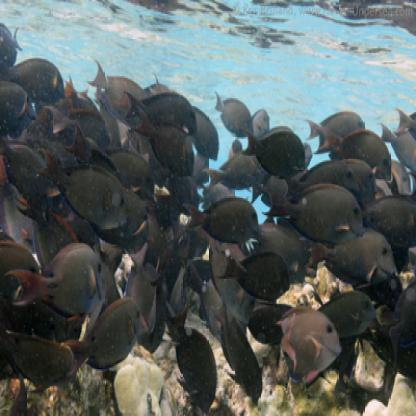Acanthuridae -Surgeonfishes-: (8, 238, 107, 319), (40, 146, 128, 231), (66, 296, 143, 381), (262, 185, 368, 246), (84, 55, 157, 132), (308, 227, 397, 288), (270, 304, 350, 371), (212, 305, 264, 406), (169, 313, 219, 411), (135, 107, 199, 177), (319, 126, 395, 183), (1, 138, 61, 204), (123, 90, 200, 141), (220, 246, 292, 300), (178, 196, 262, 242), (2, 55, 71, 107), (204, 144, 272, 193), (306, 109, 372, 151), (179, 99, 222, 162), (312, 294, 378, 334), (215, 88, 255, 140), (1, 79, 39, 133), (251, 109, 273, 140)
